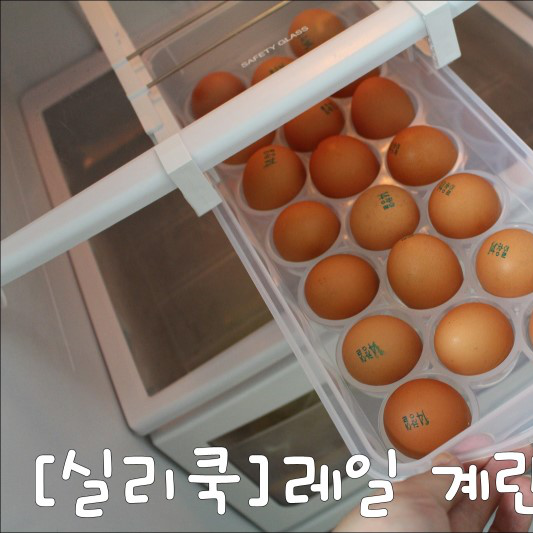egg: (188, 11, 533, 454)
